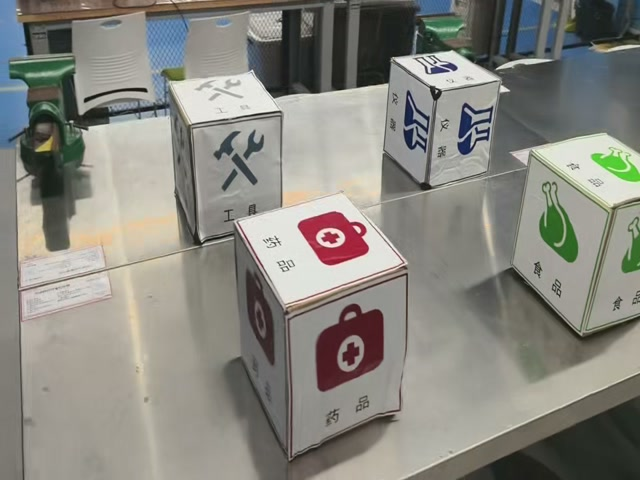Cube_food: (529, 134, 639, 217)
Cube_ins: (391, 51, 500, 96)
Cube_medicine: (235, 194, 407, 316)
Cube_tool: (169, 72, 281, 127)
